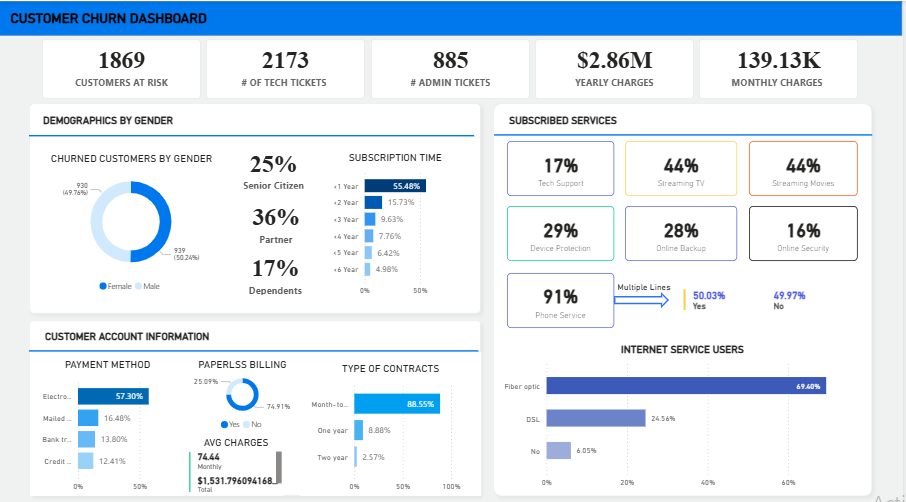

The page's visual inventory and layout, read from the dashboard file:
{"tool":"powerbi","page":{"name":"Churn Dashboard","canvas":[1280,720],"ordinal":0},"visuals":[{"type":"shape","box":[0,0,1280,49],"z":0},{"type":"shape","box":[34,136,658,316],"z":0,"group":"g1"},{"type":"card","fields":{"Values":["Churn.% Tech Support"]},"box":[720,199,152.4,78.4],"z":0,"group":"g4"},{"type":"shape","box":[692,136,555,575],"z":1000},{"type":"card","fields":{"Values":["Churn.% Streaming TV"]},"box":[887.4,199,159.5,78.4],"z":1000,"group":"g4"},{"type":"donutChart","title":"CHURNED CUSTOMERS BY GENDER","fields":{"Category":["01 Churn-Dataset.gender"],"Y":["CountNonNull(01 Churn-Dataset.gender)"]},"box":[61.1,204.4,252.2,223.4],"z":1000,"group":"g1"},{"type":"shape","box":[702,123,536,133],"z":1500,"group":"g3"},{"type":"shape","box":[42,430,636.8,133],"z":1500,"group":"g2"},{"type":"textbox","box":[12,8,438,33],"z":2000},{"type":"textbox","box":[703.8,145,522.6,38],"z":2000,"group":"g3"},{"type":"textbox","box":[42.7,146.1,630.9,47.3],"z":2000,"group":"g1"},{"type":"card","fields":{"Values":["Churn.% Streaming Movies"]},"box":[1062.8,199,154.2,78.4],"z":2000,"group":"g4"},{"type":"textbox","box":[44.2,452,636.8,38],"z":2000,"group":"g2"},{"type":"card","fields":{"Values":["Churn.% of Senior Citizen"]},"box":[330.5,204.4,118,77.5],"z":3000,"group":"g1"},{"type":"card","fields":{"Values":["Churn.% Device Protection"]},"box":[720,291.6,152.4,78.4],"z":3000,"group":"g4"},{"type":"shape","box":[34,444,658,267],"z":3000},{"type":"card","fields":{"Values":["CountNonNull(01 Churn-Dataset.customerID)"]},"box":[60.9,53.9,225.4,85],"z":4000},{"type":"card","fields":{"Values":["Churn.% of partner"]},"box":[330.2,273.5,124.7,90.7],"z":4000,"group":"g1"},{"type":"card","fields":{"Values":["Churn.% Online Backup"]},"box":[887.4,291.6,159.5,78.4],"z":4000,"group":"g4"},{"type":"shape","box":[42.7,151.1,630.9,78.5],"z":5000,"group":"g1"},{"type":"card","fields":{"Values":["Churn.% Online Sec"]},"box":[1062.8,291.6,154.2,78.4],"z":5000,"group":"g4"},{"type":"card","fields":{"Values":["Churn.% Phone Service"]},"box":[720,385,152,78],"z":5000},{"type":"card","fields":{"Values":["Sum(01 Churn-Dataset.numTechTickets)"]},"box":[293.4,53.9,225.4,85],"z":6000},{"type":"card","fields":{"Values":["Churn.% of Dependents"]},"box":[329.5,351.4,125.5,79.5],"z":6000,"group":"g1"},{"type":"clusteredBarChart","title":"SUBSCRIPTION TIME","fields":{"Y":["CountNonNull(Churn.Churn)"],"Category":["Churn.Tenure(in years)"]},"box":[466.9,204.4,190.5,220.4],"z":7000,"group":"g1"},{"type":"clusteredBarChart","title":"PAYMENT METHOD","fields":{"Y":["CountNonNull(Churn.PaymentMethod)"],"Category":["Churn.PaymentMethod"]},"box":[44,497,220,204],"z":7000},{"type":"card","fields":{"Values":["Sum(01 Churn-Dataset.TotalCharges)"]},"box":[759.7,53.9,225.4,85],"z":8000},{"type":"card","fields":{"Values":["Sum(01 Churn-Dataset.numAdminTickets)"]},"box":[527.2,53.9,225.4,85],"z":9000},{"type":"group","id":"g1","title":"Group 1","box":[34,136,658,316],"z":10000},{"type":"card","fields":{"Values":["Sum(01 Churn-Dataset.MonthlyCharges)"]},"box":[992.1,53.9,225.4,85],"z":11000},{"type":"donutChart","title":"PAPERLSS BILLING","fields":{"Category":["Churn.PaperlessBilling"],"Y":["CountNonNull(Churn.PaperlessBilling)"]},"box":[248,497,194,126],"z":12000},{"type":"multiRowCard","title":"AVG CHARGES","fields":{"Values":["Avg(Churn.MonthlyCharges)","Avg(Churn.TotalCharges)"]},"box":[264,606,143,95],"z":13000},{"type":"clusteredBarChart","title":"TYPE OF CONTRACTS","fields":{"Category":["Churn.Contract"],"Y":["CountNonNull(Churn.Contract)"]},"box":[426,497,257,204],"z":14000},{"type":"group","id":"g2","title":"Group 2","box":[42,430,639,133],"z":15000},{"type":"group","id":"g3","title":"Group 2","box":[702,123,536,133],"z":16000},{"type":"group","id":"g4","title":"Group 3","box":[720,199,497,171],"z":17000},{"type":"shape","box":[871,412,78,23],"z":18000},{"type":"textbox","box":[872,391,300,30],"z":19000},{"type":"multiRowCard","fields":{"Values":["Churn.% Yes-Multiple Lines","Churn.% No-Multiple Lines"]},"box":[965,404,252,53],"z":20000},{"type":"barChart","title":"INTERNET SERVICE USERS","fields":{"Y":["CountNonNull(Churn.InternetService)"],"Category":["Churn.InternetService"]},"box":[710,471,517,230],"z":21000}]}

Visuals, with their boxes in screenshot pixels (x1, y1, x2, y2), scaled from the page's 1280x720 canvas onto the 906x502 screenshot:
shape: [left=0, top=0, right=905, bottom=34]
shape: [left=24, top=95, right=490, bottom=315]
card - Churn.% Tech Support: [left=510, top=139, right=617, bottom=193]
shape: [left=490, top=95, right=883, bottom=496]
card - Churn.% Streaming TV: [left=628, top=139, right=741, bottom=193]
"CHURNED CUSTOMERS BY GENDER" donutChart: [left=43, top=143, right=222, bottom=298]
shape: [left=497, top=86, right=876, bottom=178]
shape: [left=30, top=300, right=480, bottom=393]
textbox: [left=8, top=6, right=319, bottom=29]
textbox: [left=498, top=101, right=868, bottom=128]
textbox: [left=30, top=102, right=477, bottom=135]
card - Churn.% Streaming Movies: [left=752, top=139, right=861, bottom=193]
textbox: [left=31, top=315, right=482, bottom=342]
card - Churn.% of Senior Citizen: [left=234, top=143, right=317, bottom=197]
card - Churn.% Device Protection: [left=510, top=203, right=617, bottom=258]
shape: [left=24, top=310, right=490, bottom=496]
card - CountNonNull(01 Churn-Dataset.customerID): [left=43, top=38, right=203, bottom=97]
card - Churn.% of partner: [left=234, top=191, right=322, bottom=254]
card - Churn.% Online Backup: [left=628, top=203, right=741, bottom=258]
shape: [left=30, top=105, right=477, bottom=160]
card - Churn.% Online Sec: [left=752, top=203, right=861, bottom=258]
card - Churn.% Phone Service: [left=510, top=268, right=617, bottom=323]
card - Sum(01 Churn-Dataset.numTechTickets): [left=208, top=38, right=367, bottom=97]
card - Churn.% of Dependents: [left=233, top=245, right=322, bottom=300]
"SUBSCRIPTION TIME" clusteredBarChart: [left=330, top=143, right=465, bottom=296]
"PAYMENT METHOD" clusteredBarChart: [left=31, top=347, right=187, bottom=489]
card - Sum(01 Churn-Dataset.TotalCharges): [left=538, top=38, right=697, bottom=97]
card - Sum(01 Churn-Dataset.numAdminTickets): [left=373, top=38, right=533, bottom=97]
"Group 1" group: [left=24, top=95, right=490, bottom=315]
card - Sum(01 Churn-Dataset.MonthlyCharges): [left=702, top=38, right=862, bottom=97]
"PAPERLSS BILLING" donutChart: [left=176, top=347, right=313, bottom=434]
"AVG CHARGES" multiRowCard: [left=187, top=423, right=288, bottom=489]
"TYPE OF CONTRACTS" clusteredBarChart: [left=302, top=347, right=483, bottom=489]
"Group 2" group: [left=30, top=300, right=482, bottom=393]
"Group 2" group: [left=497, top=86, right=876, bottom=178]
"Group 3" group: [left=510, top=139, right=861, bottom=258]
shape: [left=617, top=287, right=672, bottom=303]
textbox: [left=617, top=273, right=830, bottom=294]
multiRowCard - Churn.% Yes-Multiple Lines x Churn.% No-Multiple Lines: [left=683, top=282, right=861, bottom=319]
"INTERNET SERVICE USERS" barChart: [left=503, top=328, right=868, bottom=489]
